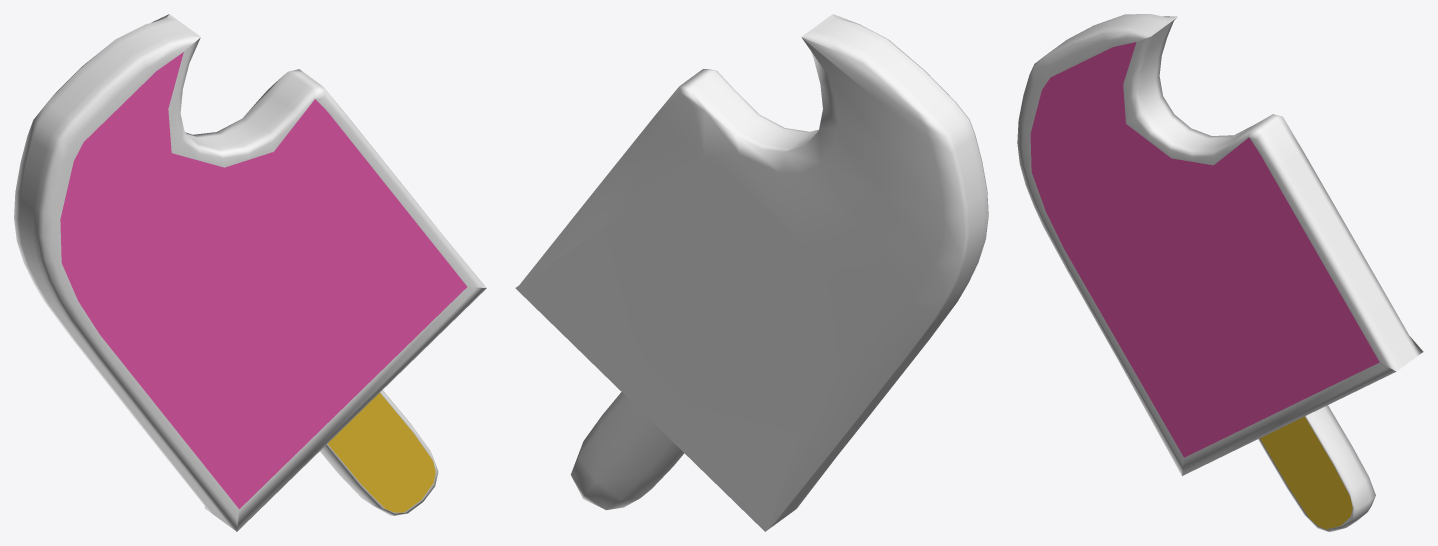
File: geo_icecreamfridgemagenet.fbx
3 views of the same model, side by side, from view 1: azimuth 30°, elevation 25°; view 2: azimuth 150°, elevation 25°; view 3: azimuth 330°, elevation 25° (orthographic). The views are drawn at different scales.
Visible parts, largest first — view 1: pCube148; view 2: pCube148; view 3: pCube148.
Part boxes in pixels (x1,y1,x2,y2): pCube148: (14, 14, 486, 531); pCube148: (515, 14, 988, 531); pCube148: (1017, 14, 1423, 531).
Size of the model in its own units: 8.48 by 9.64 by 1.04.
Materials: 1 (1 with a texture image).
